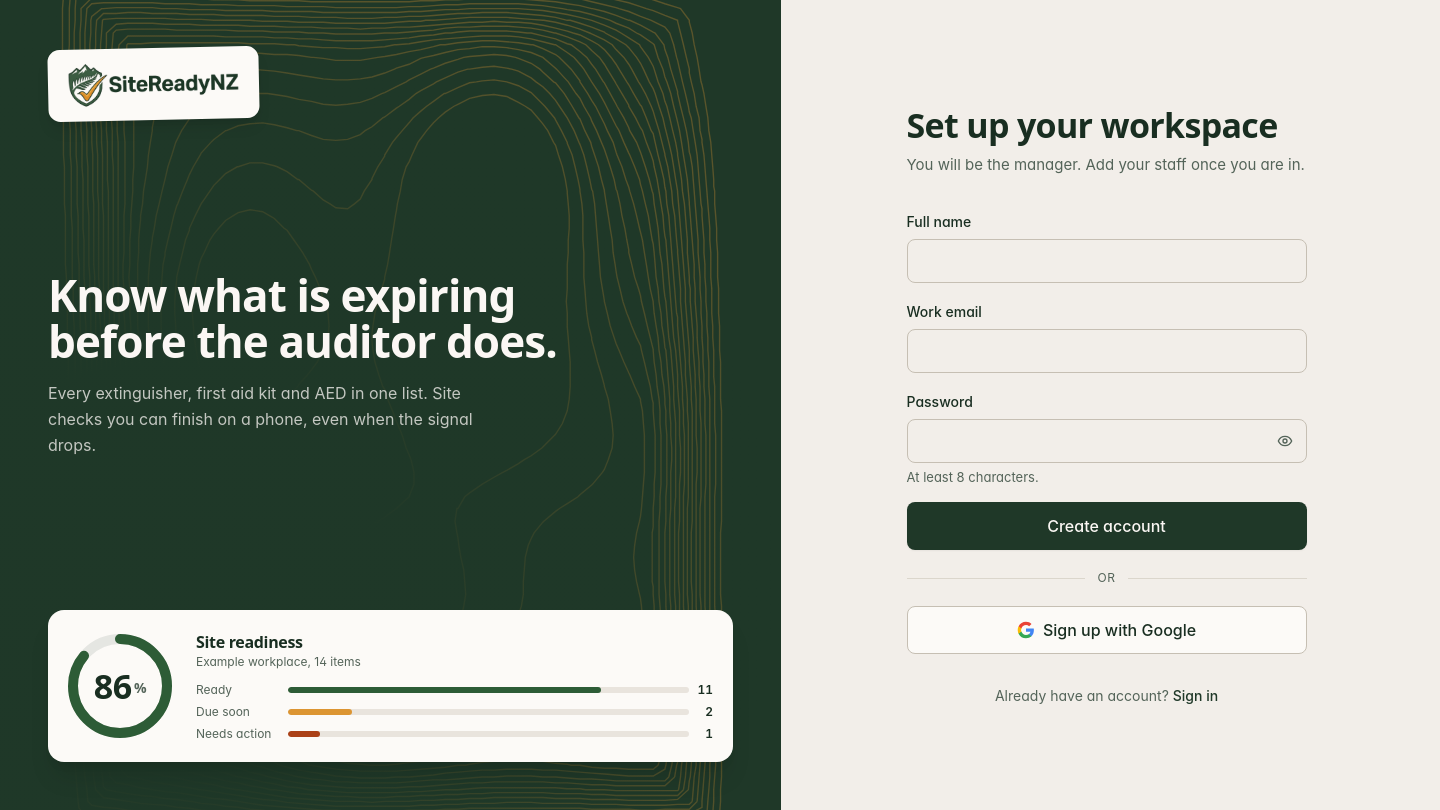
Scenario: Register page › shows "already exists" when the email is taken
Type "A" into the field labelled "Full name" at (1106,261), box [906,239,1306,283]
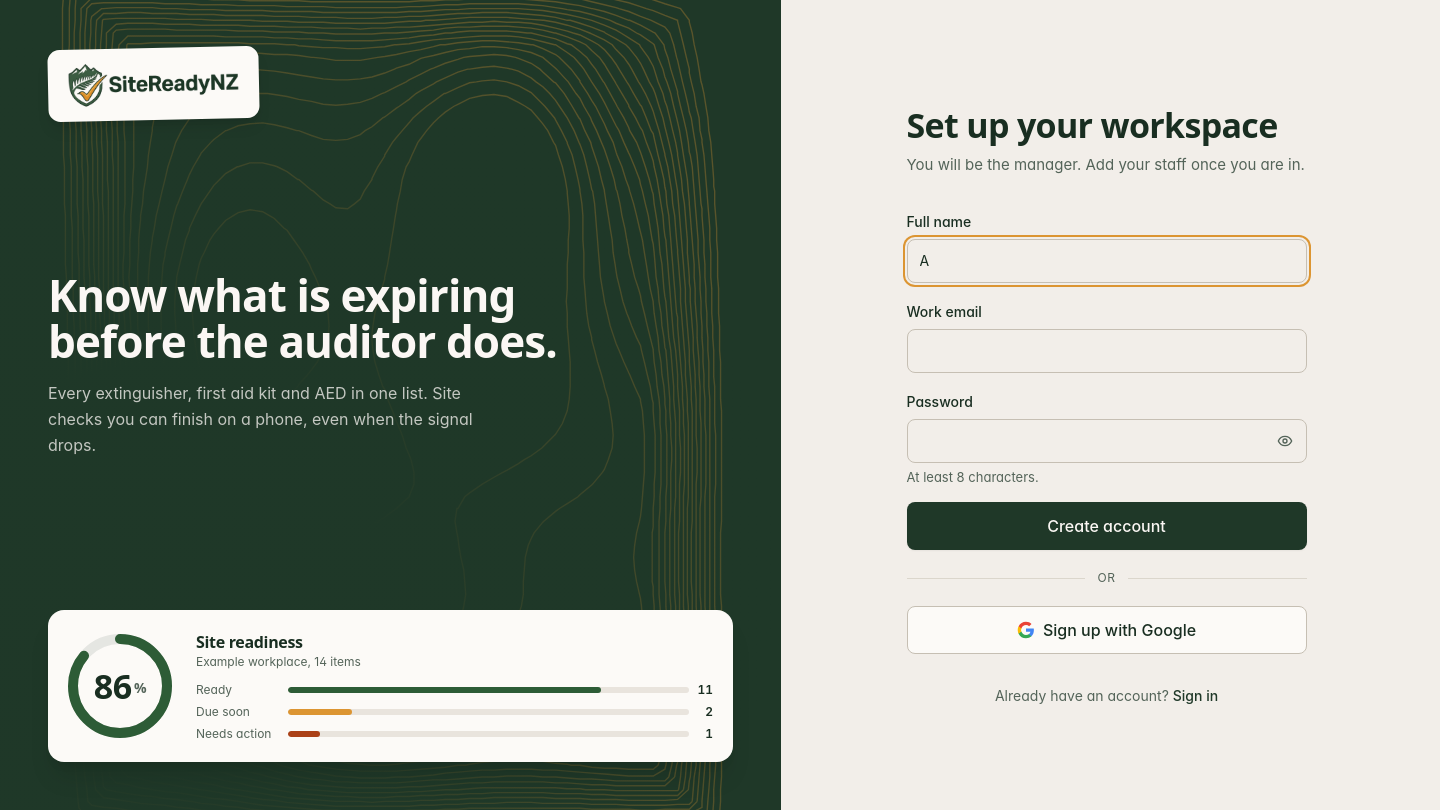
Type "a@example.com" into the field labelled "Work email" at (1106,351), box [906,329,1306,373]
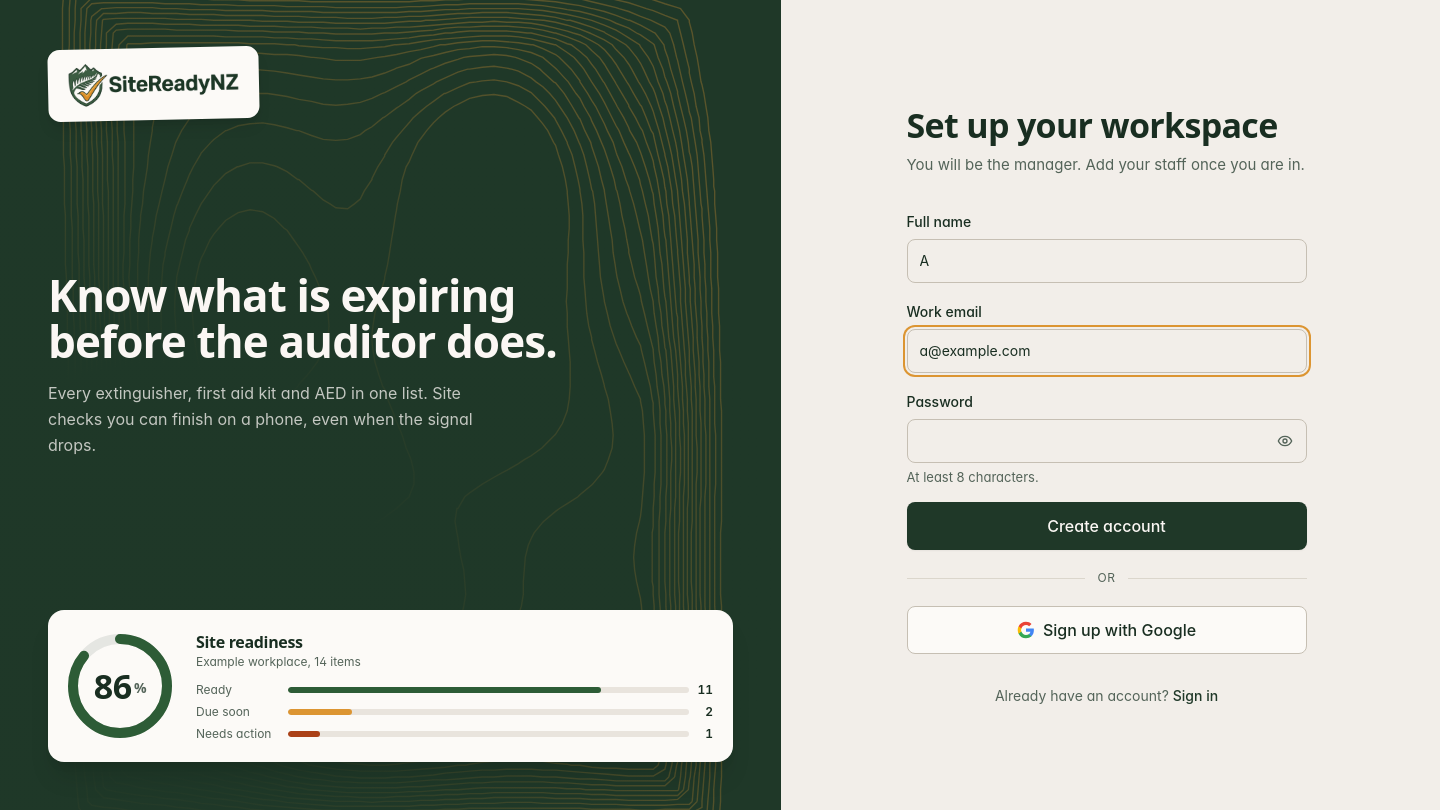
Type "correct-horse-battery" into the password field labelled "Password" at (1106,441), box [906,419,1306,463]
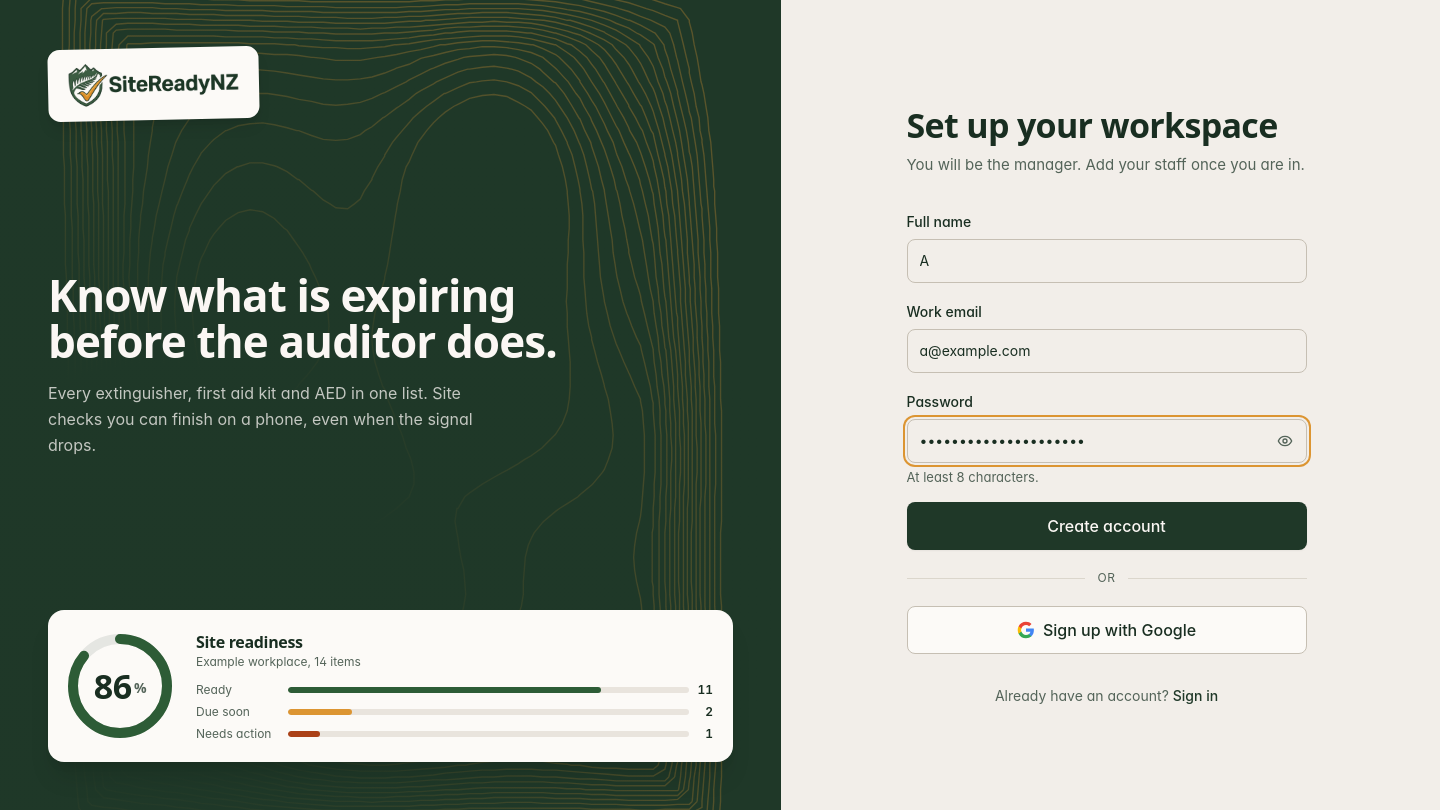
Click the button "Create account" at (1106,526), box [906,502,1306,550]
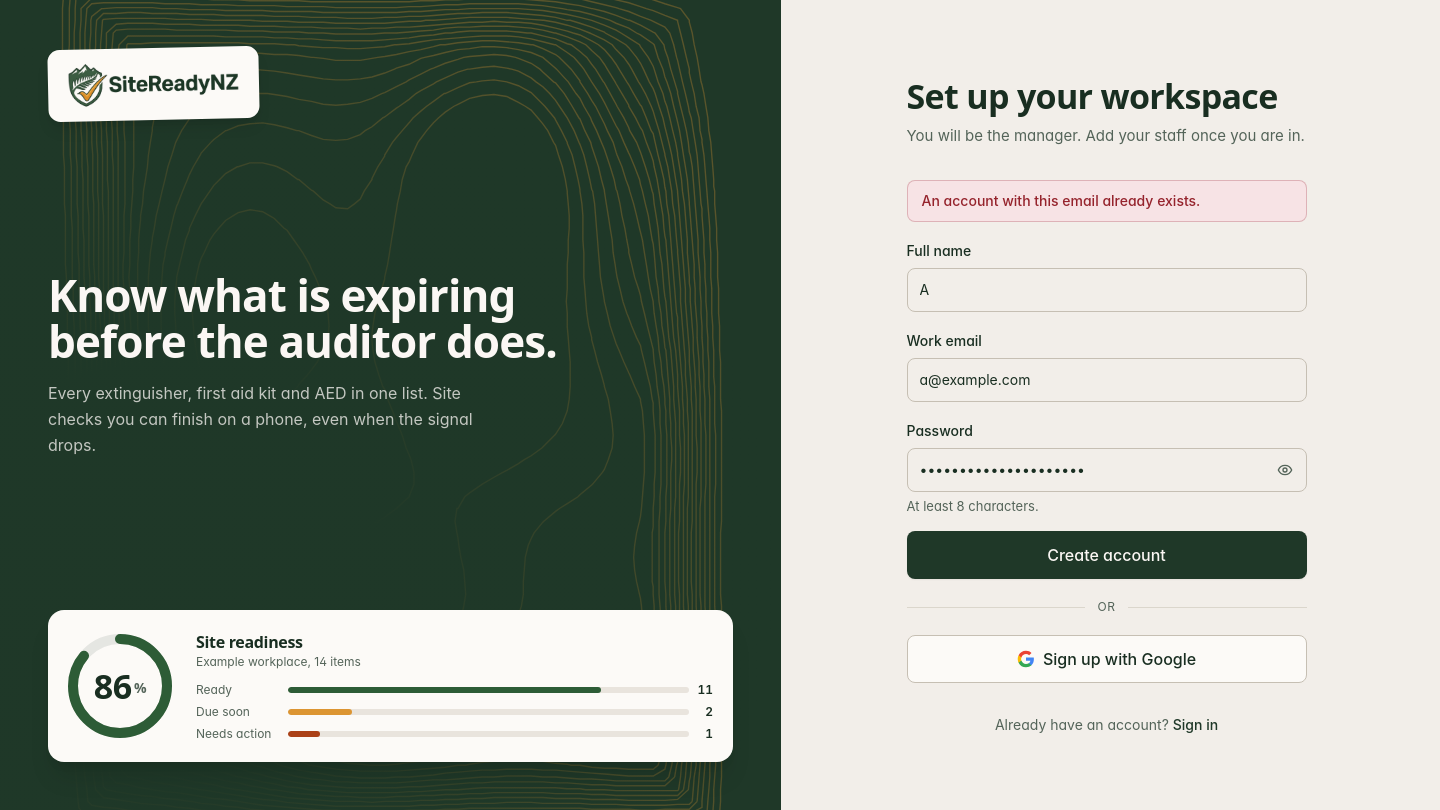
Expected: the message shows "already exists", [922,192,1200,209]
